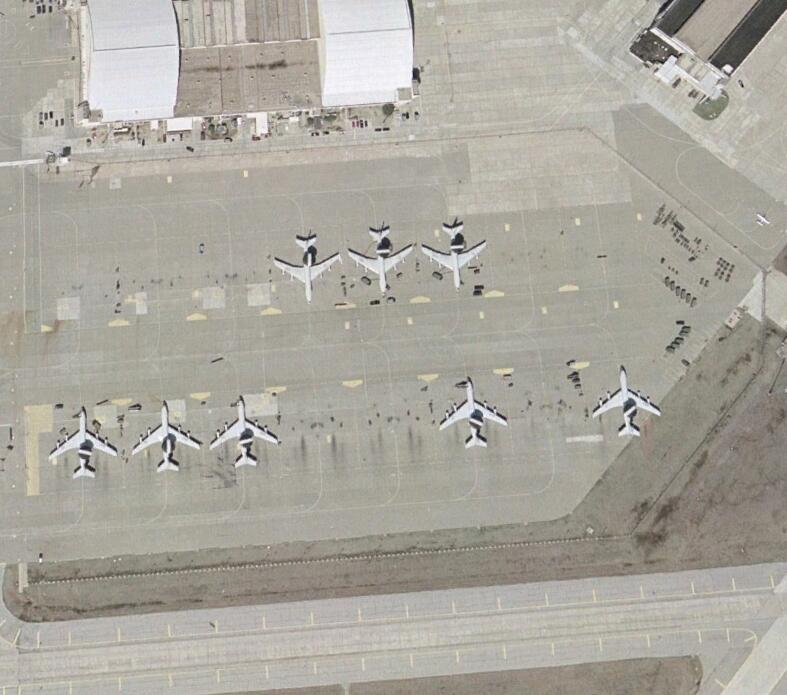A7: (47, 406, 119, 478), (437, 379, 509, 450), (591, 368, 664, 438), (131, 403, 202, 474), (272, 235, 342, 304), (211, 400, 278, 467), (422, 222, 487, 290), (348, 226, 413, 294)
